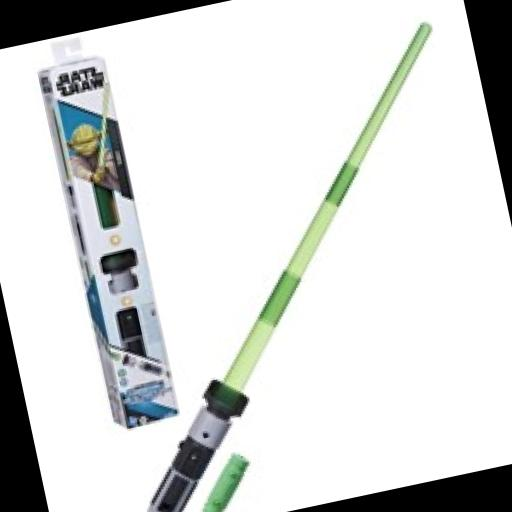lightsaber: (55, 19, 512, 512)
